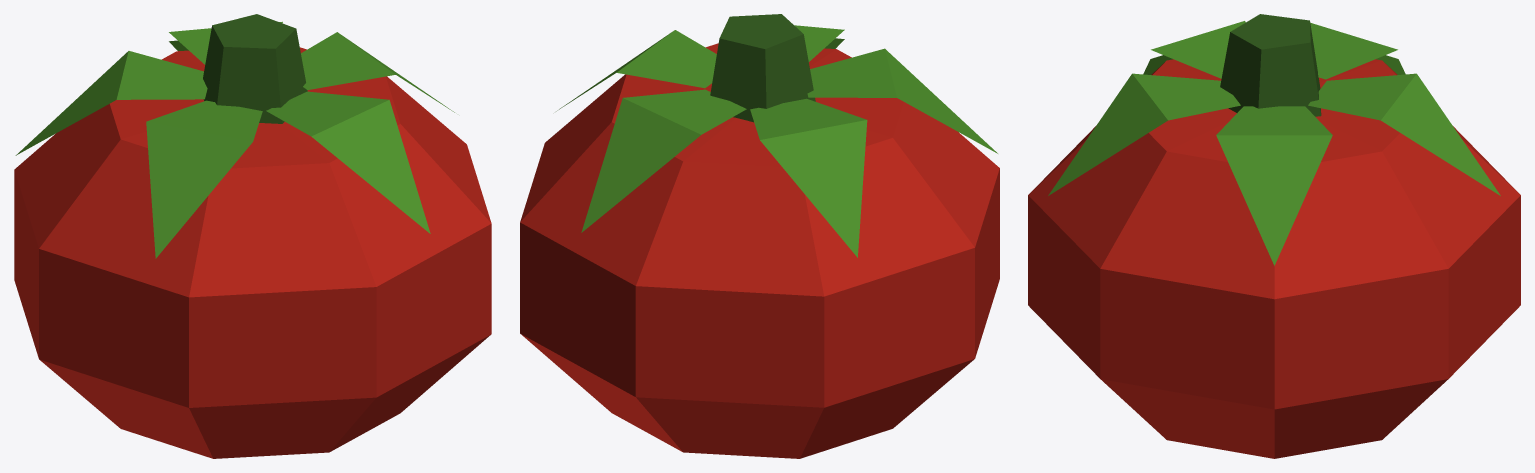
Rendered from tomato-05e480.glb.
The picture shows the model from 3 angles, left to right: view 1: azimuth 30°, elevation 25°; view 2: azimuth 150°, elevation 25°; view 3: azimuth 270°, elevation 25°; orthographic projection.
Visible parts, largest first — view 1: tomato; view 2: tomato; view 3: tomato.
Boxes of the visible parts, x1,y1,x2,y2 form: tomato: (14, 14, 491, 458); tomato: (520, 14, 999, 458); tomato: (1028, 14, 1520, 458).
Bounding box in the file's own units: 0.0723 × 0.0643 × 0.0723.
